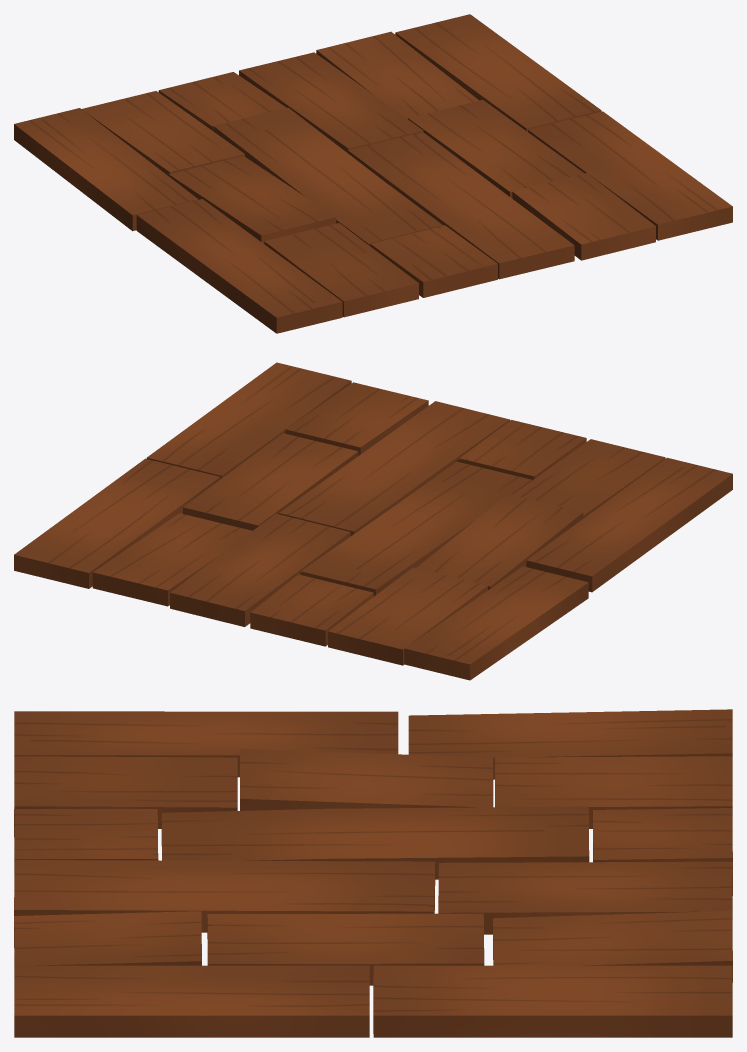
Rendered from CHAO.fbx.
The picture shows the model from 3 angles, top to bottom: view 1: azimuth 30°, elevation 25°; view 2: azimuth 150°, elevation 25°; view 3: azimuth 270°, elevation 25°; orthographic projection. The views are drawn at different scales.
Parts seen in each view (by area): view 1: CHAO.007; view 2: CHAO.007; view 3: CHAO.007.
Part boxes in pixels (x1,y1,x2,y2): CHAO.007: (14, 14, 732, 333); CHAO.007: (14, 362, 732, 680); CHAO.007: (14, 709, 732, 1037).
Bounding box in the file's own units: 100 × 5.22 × 100.
1 material, 1 textured.
